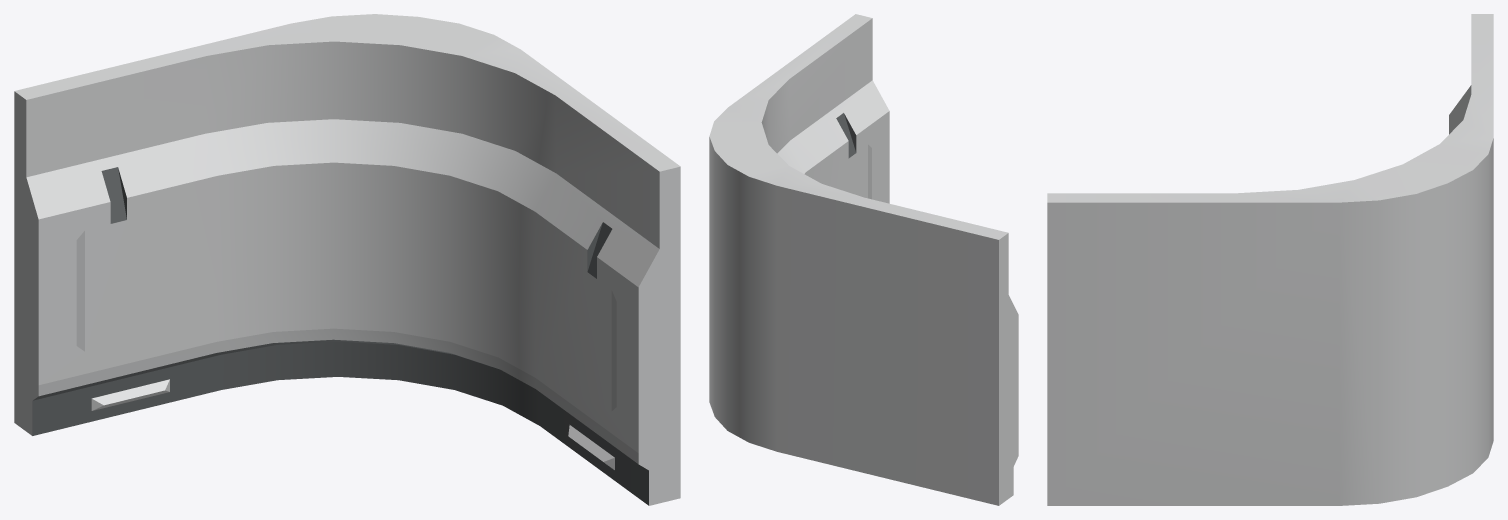
File: Wall_type_A_045.fbx
3 views of the same model, side by side, from view 1: azimuth 30°, elevation 25°; view 2: azimuth 150°, elevation 25°; view 3: azimuth 270°, elevation 25° (orthographic). The views are drawn at different scales.
Visible parts, largest first — view 1: Wall_type_A_045; view 2: Wall_type_A_045; view 3: Wall_type_A_045.
Part boxes in pixels (left/top/right/bottom): Wall_type_A_045: left=14, top=14, right=680, bottom=505; Wall_type_A_045: left=709, top=14, right=1018, bottom=505; Wall_type_A_045: left=1047, top=14, right=1493, bottom=505.
Bounding box in the file's own units: 200 × 200 × 150.
